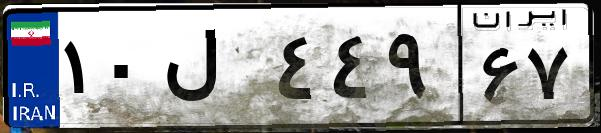0: (110, 28, 158, 98)
1: (57, 26, 110, 100)
4: (270, 28, 330, 110), (330, 28, 385, 110)
6: (475, 38, 525, 113)
7: (525, 38, 570, 115)
9: (385, 28, 445, 110)
ل: (158, 20, 270, 120)
